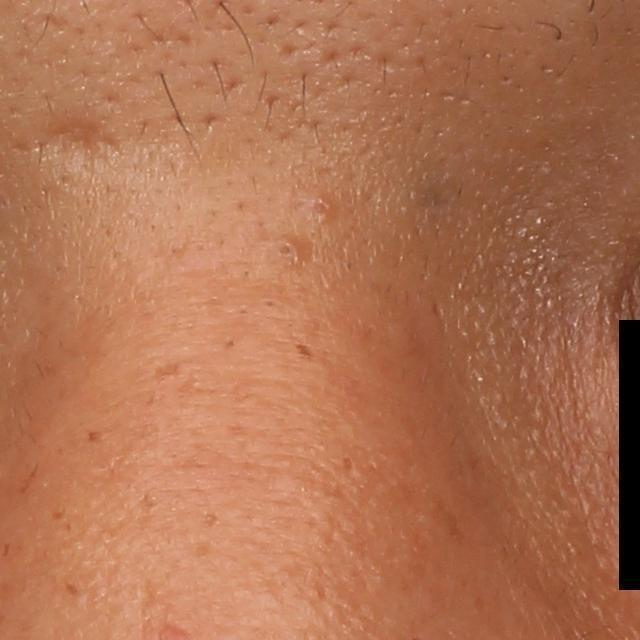atrophic_scar: (34, 110, 121, 164)
comedo: (301, 196, 339, 229), (269, 236, 303, 265), (264, 299, 275, 309)
